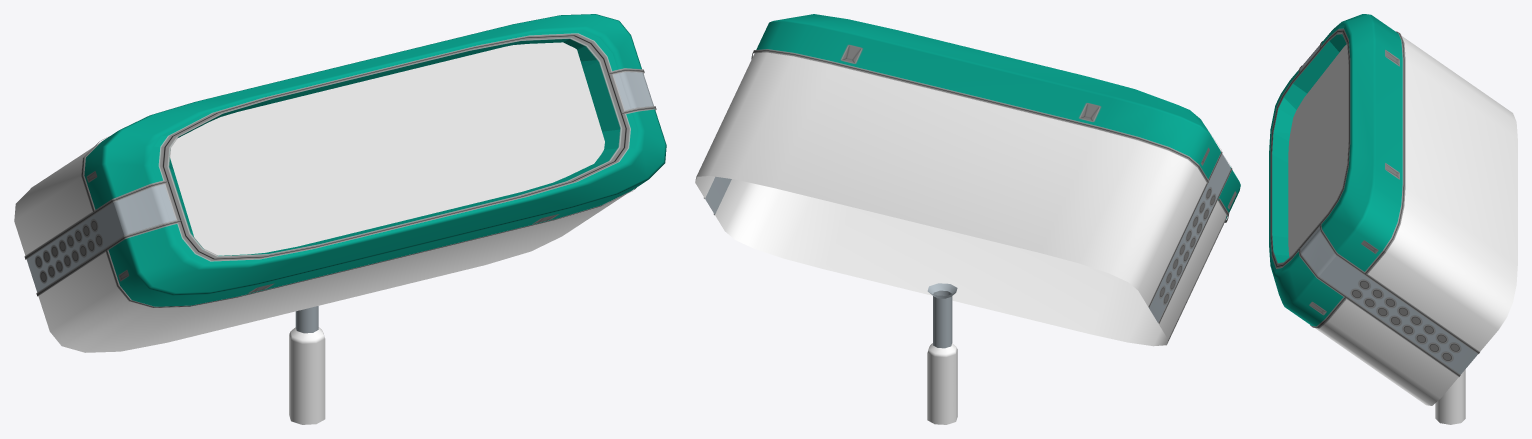
File: painting_holder.glb
The picture shows the model from 3 angles, left to right: view 1: azimuth 30°, elevation 25°; view 2: azimuth 150°, elevation 25°; view 3: azimuth 270°, elevation 25°; orthographic projection. The views are drawn at different scales.
Visible parts, largest first — view 1: Container001, Plane, Chair002_Color2_0; view 2: Container001, Chair002_Color2_0; view 3: Container001, Plane, Chair002_Color2_0.
Boxes of the visible parts, bbox=[...] form: Container001: bbox=[14, 14, 666, 352]; Plane: bbox=[170, 42, 604, 255]; Chair002_Color2_0: bbox=[289, 306, 325, 424]; Container001: bbox=[695, 14, 1240, 346]; Chair002_Color2_0: bbox=[927, 283, 957, 424]; Container001: bbox=[1269, 14, 1517, 405]; Plane: bbox=[1288, 44, 1348, 257]; Chair002_Color2_0: bbox=[1435, 369, 1465, 424].
Bounding box in the file's own units: 5.15 × 3.62 × 2.55.
Materials: 4 (1 with a texture image).
